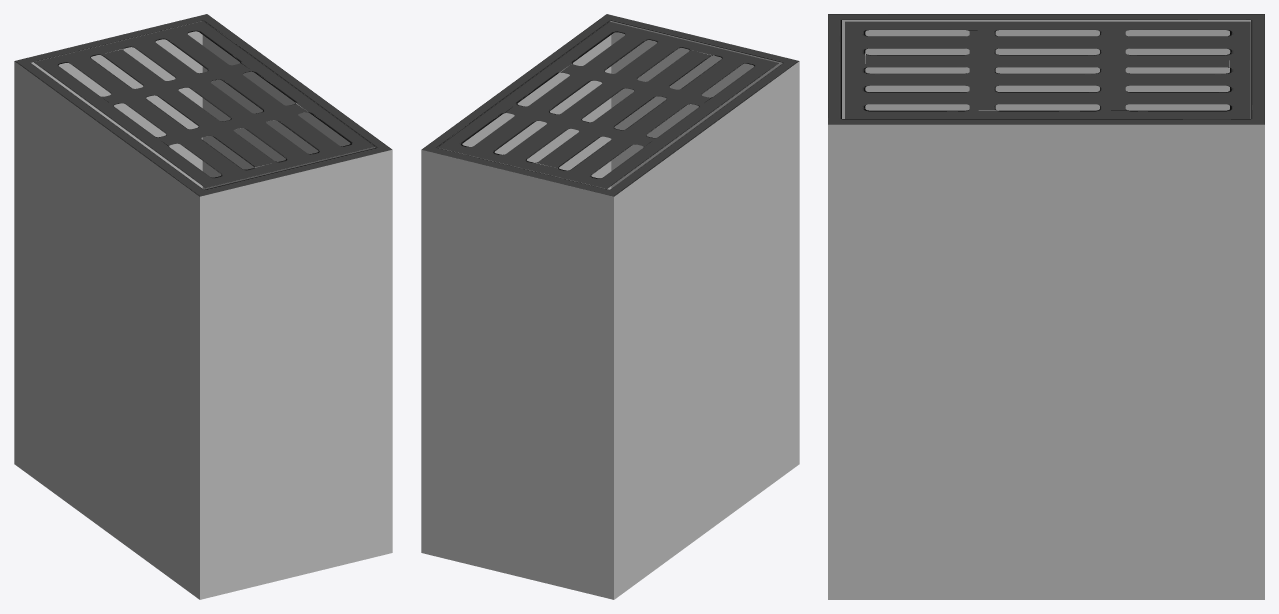
3 renders of one model, left to right at view 1: azimuth 30°, elevation 25°; view 2: azimuth 150°, elevation 25°; view 3: azimuth 270°, elevation 25°, orthographic. The views are drawn at different scales.
Parts seen in each view (by area): view 1: Mesh_0, Mesh_2; view 2: Mesh_0, Mesh_2; view 3: Mesh_0, Mesh_2.
Boxes of the visible parts, left/top/right/bottom form: Mesh_0: left=14, top=14, right=392, bottom=599; Mesh_2: left=34, top=21, right=374, bottom=187; Mesh_0: left=421, top=14, right=799, bottom=599; Mesh_2: left=438, top=21, right=778, bottom=188; Mesh_0: left=828, top=14, right=1264, bottom=599; Mesh_2: left=845, top=21, right=1250, bottom=118.
Bounding box in the file's own units: 0.3 × 0.6001 × 0.5.
Materials: 3 (2 with a texture image).
